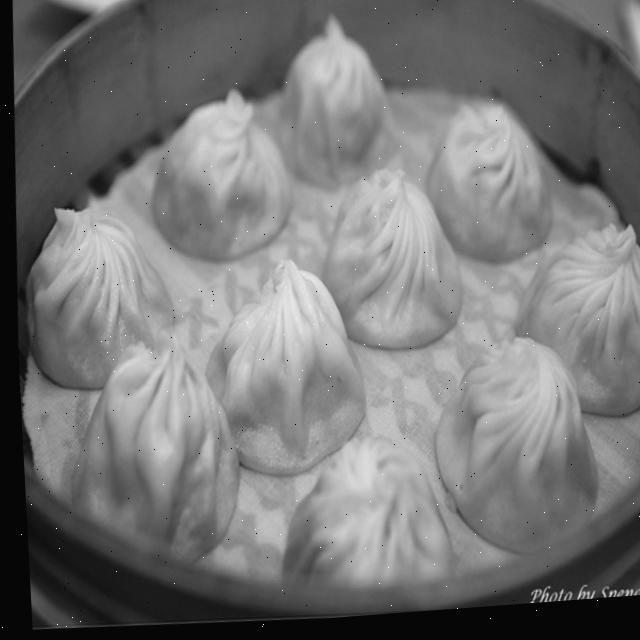带馅早点: (7, 0, 640, 625)
